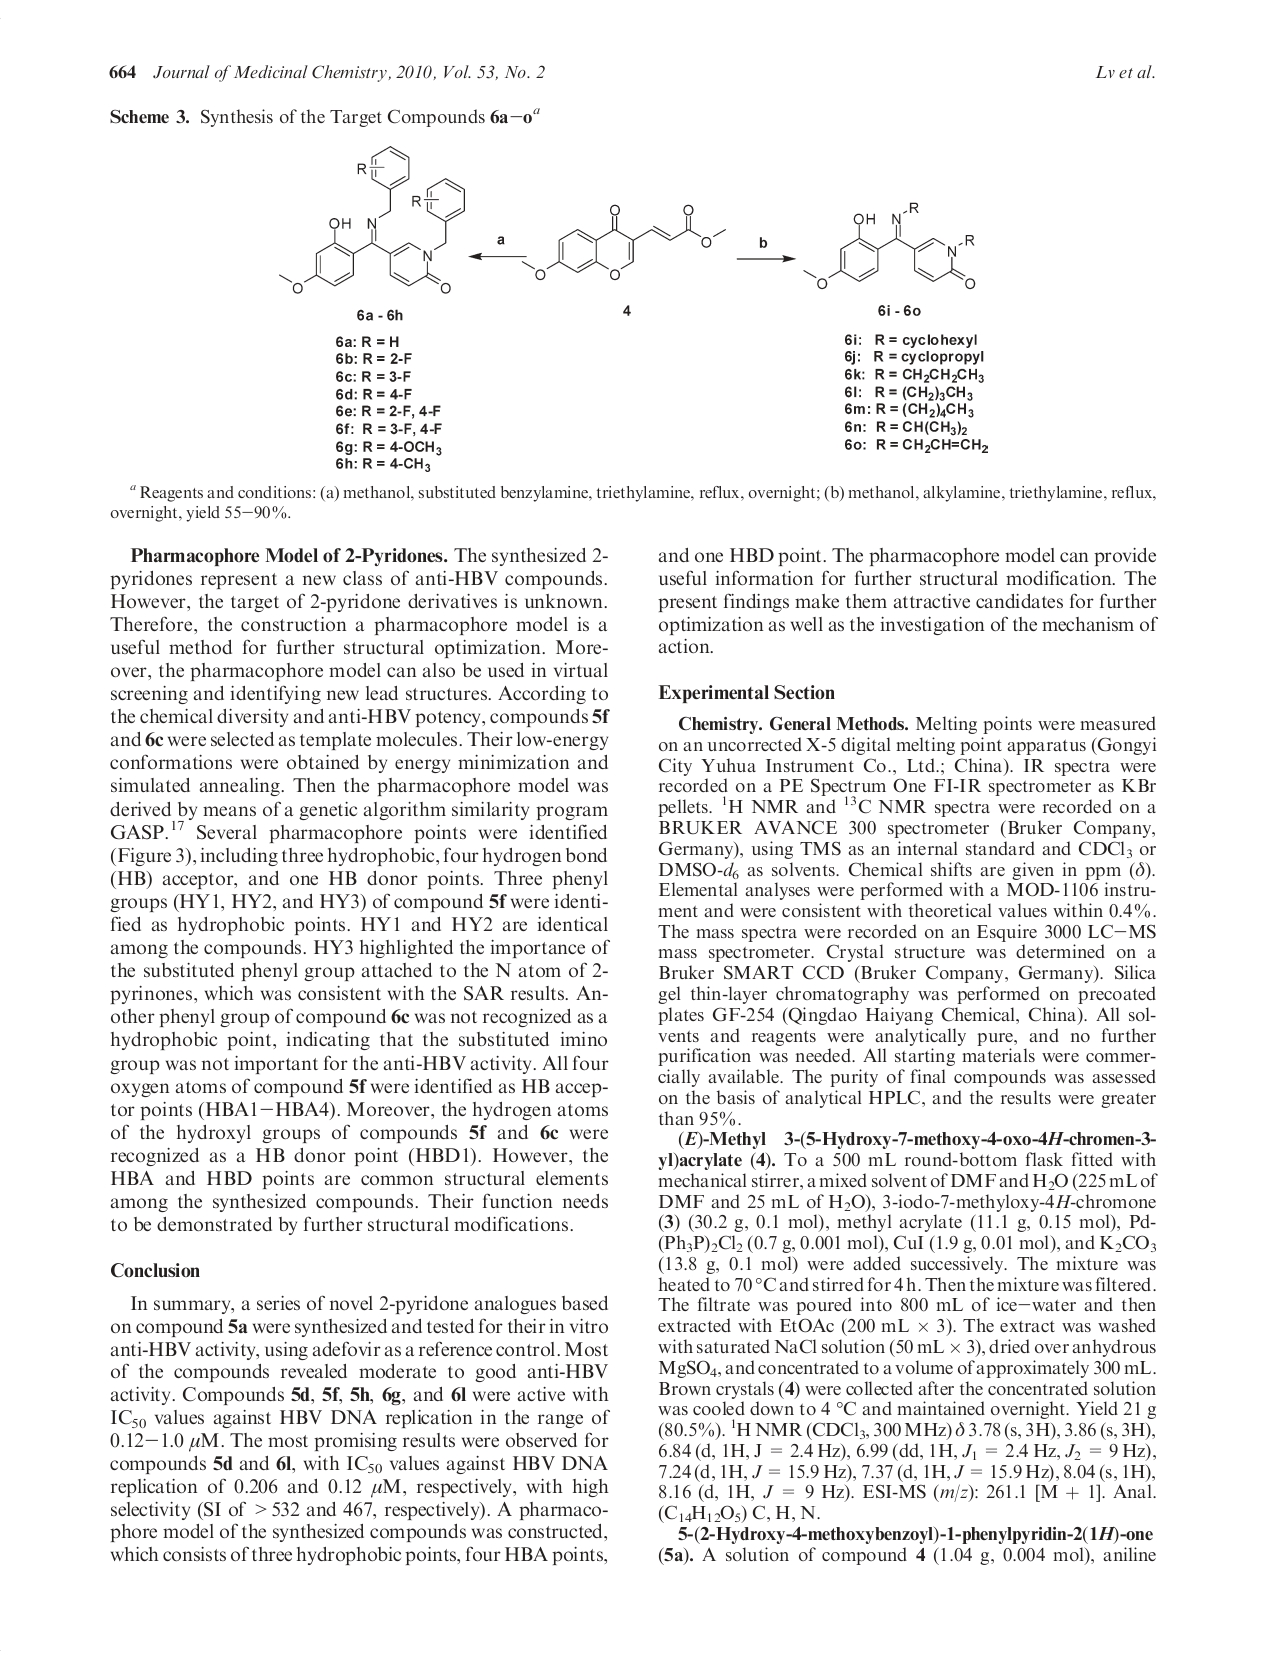exist_molecular: (277, 144, 469, 297), (523, 203, 729, 282), (801, 199, 979, 290)
